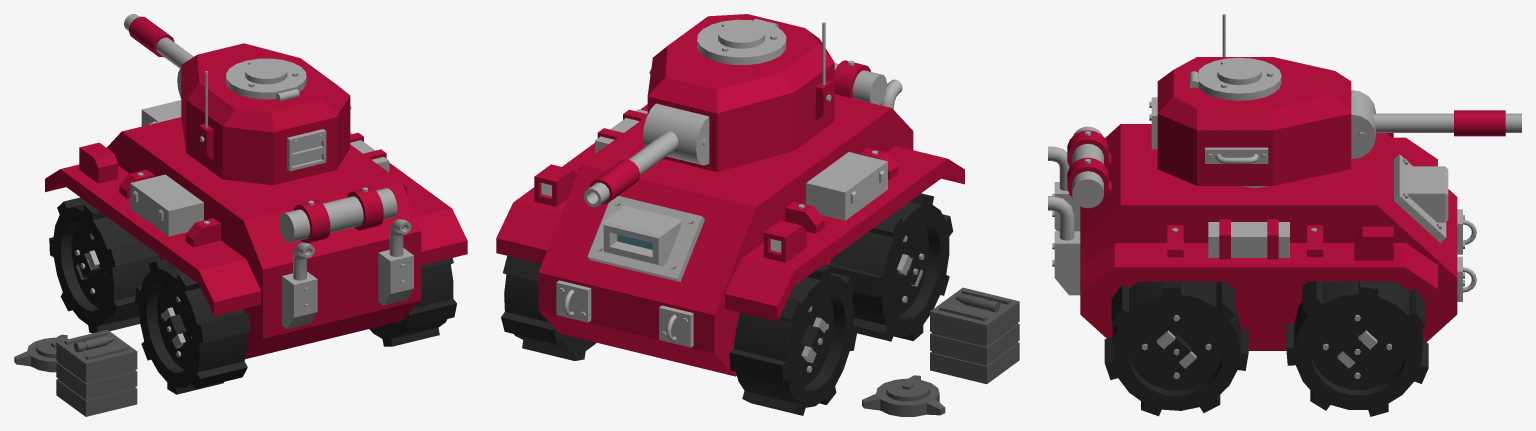
The model's file is tankboss.glb.
3 renders of one model, left to right at view 1: azimuth 30°, elevation 25°; view 2: azimuth 150°, elevation 25°; view 3: azimuth 270°, elevation 25°, orthographic. The views are drawn at different scales.
Parts seen in each view (by area): view 1: TankFree_Body, TankFree_Tower, TankFree_Wheel_b_left, TankFree_Wheel_f_left, СTF_Box, TankFree_Wheel_b_right, TankFree_Canon, СTF_Box_Cap, СTF_Mine; view 2: TankFree_Body, TankFree_Tower, TankFree_Wheel_f_left, TankFree_Wheel_b_left, СTF_Box, TankFree_Wheel_f_right, TankFree_Canon, СTF_Mine, СTF_Box_Cap, СTF_Missile; view 3: TankFree_Body, TankFree_Tower, TankFree_Wheel_b_right, TankFree_Wheel_f_right, TankFree_Canon.
Part boxes in pixels (x1=…): TankFree_Body: x1=45, y1=100, x2=467, y2=359; TankFree_Tower: x1=177, y1=43, x2=351, y2=185; TankFree_Wheel_b_left: x1=135, y1=259, x2=250, y2=394; TankFree_Wheel_f_left: x1=49, y1=197, x2=159, y2=333; СTF_Box: x1=56, y1=344, x2=137, y2=416; TankFree_Wheel_b_right: x1=369, y1=258, x2=456, y2=346; TankFree_Canon: x1=124, y1=14, x2=193, y2=68; СTF_Box_Cap: x1=56, y1=329, x2=137, y2=365; СTF_Mine: x1=14, y1=334, x2=68, y2=372; TankFree_Body: x1=496, y1=60, x2=964, y2=376; TankFree_Tower: x1=643, y1=14, x2=834, y2=171; TankFree_Wheel_f_left: x1=729, y1=265, x2=857, y2=415; TankFree_Wheel_b_left: x1=826, y1=193, x2=953, y2=341; СTF_Box: x1=930, y1=304, x2=1019, y2=384; TankFree_Wheel_f_right: x1=501, y1=256, x2=596, y2=360; TankFree_Canon: x1=583, y1=131, x2=678, y2=207; СTF_Mine: x1=862, y1=375, x2=945, y2=416; СTF_Box_Cap: x1=930, y1=287, x2=1019, y2=327; СTF_Missile: x1=955, y1=294, x2=999, y2=312; TankFree_Body: x1=1048, y1=124, x2=1476, y2=350; TankFree_Tower: x1=1149, y1=14, x2=1375, y2=188; TankFree_Wheel_b_right: x1=1104, y1=281, x2=1248, y2=416; TankFree_Wheel_f_right: x1=1286, y1=281, x2=1428, y2=416; TankFree_Canon: x1=1373, y1=110, x2=1521, y2=136.
Size of the model in its own units: 1.71 by 1.37 by 1.93.
2 materials, 1 textured.
